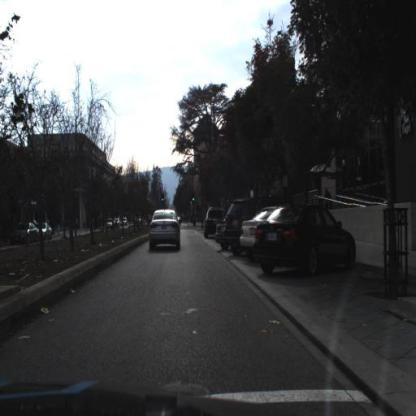car: (253, 203, 356, 273), (256, 206, 358, 274), (218, 198, 262, 252), (146, 202, 186, 258), (239, 208, 269, 252), (241, 209, 258, 270), (226, 200, 242, 257), (205, 207, 228, 239), (11, 224, 38, 246), (204, 204, 220, 240), (215, 217, 231, 248), (37, 221, 53, 242)
pedestrian: (325, 186, 334, 208)
